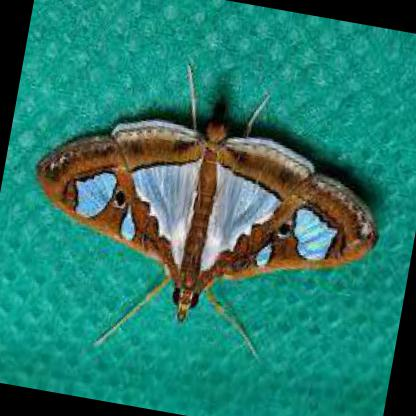Leaf Webber: (38, 114, 386, 324)
